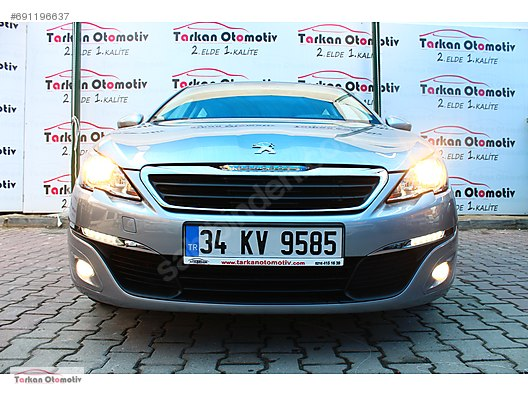peugeot: (60, 74, 472, 322)
